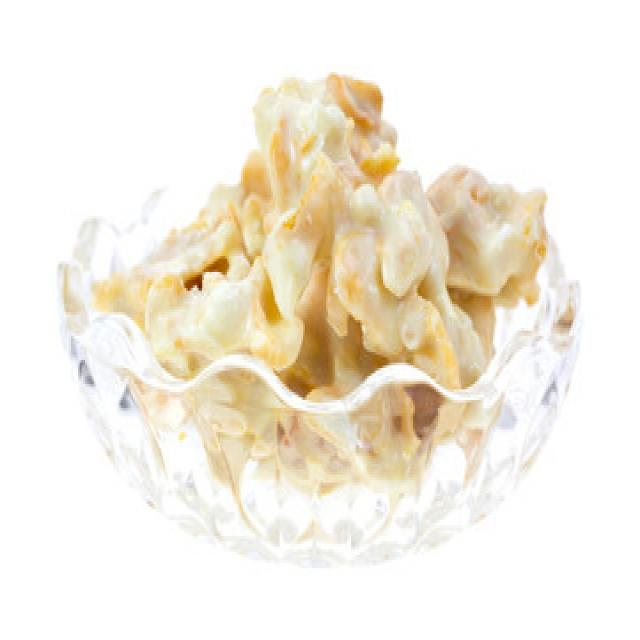Chocolate: (76, 67, 550, 405)
